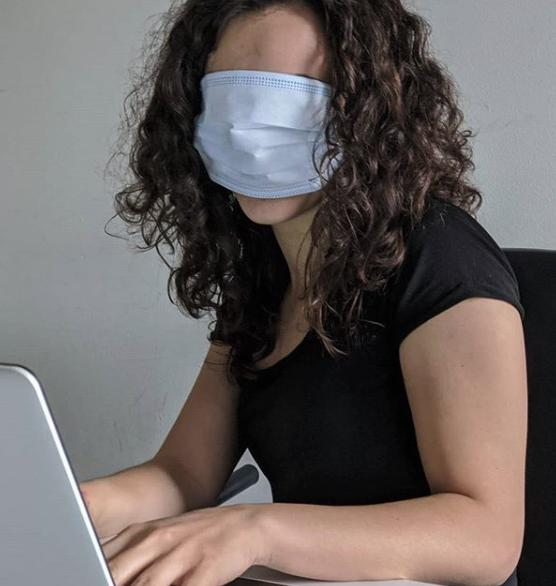mask_weared_incorrect: (183, 49, 330, 228)
